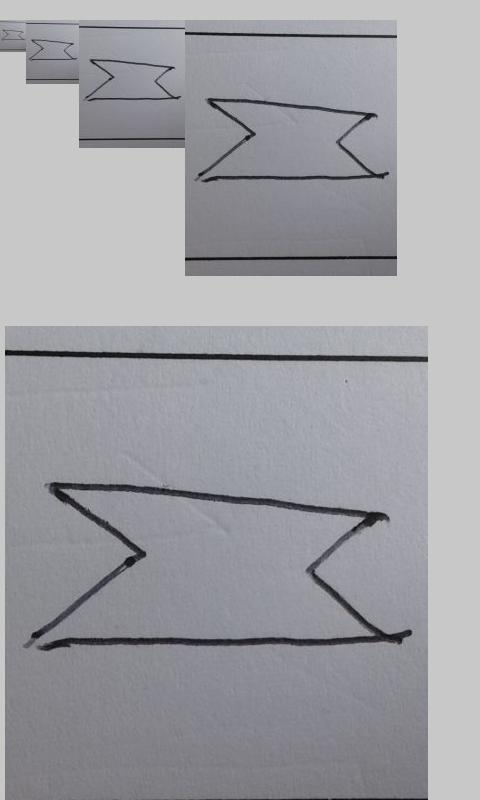edit_text: (28, 478, 406, 653), (197, 96, 385, 185), (85, 58, 179, 101), (29, 39, 77, 61), (1, 29, 25, 40)
